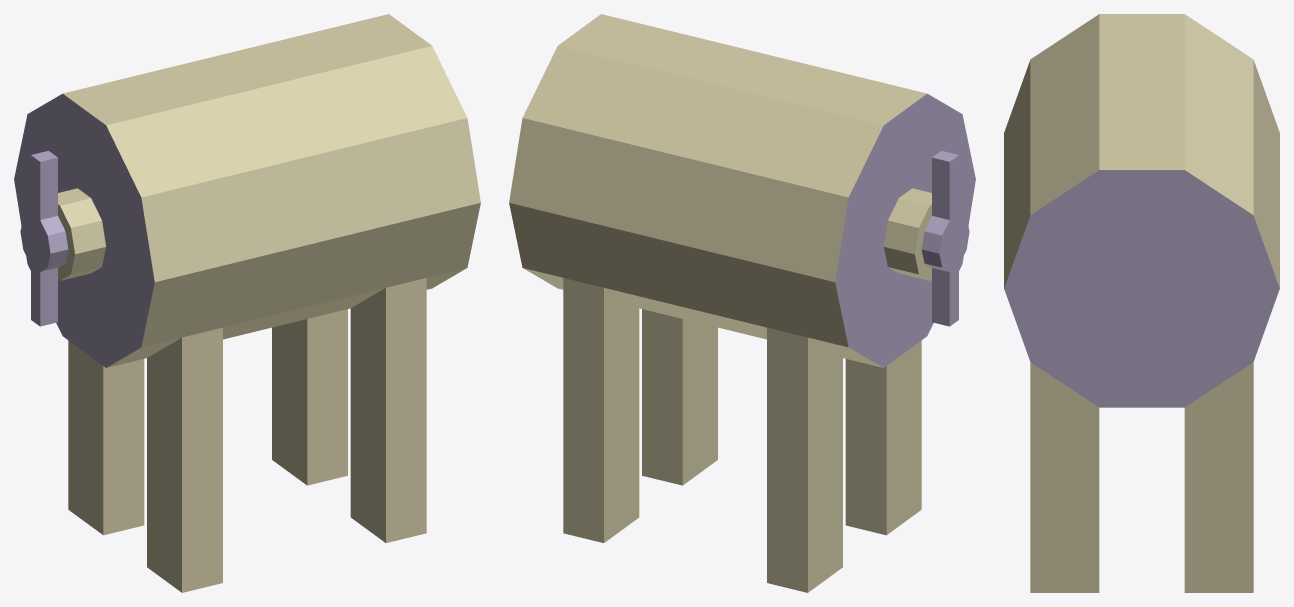
The model's file is composter.glb.
3 renders of one model, left to right at view 1: azimuth 30°, elevation 25°; view 2: azimuth 150°, elevation 25°; view 3: azimuth 270°, elevation 25°, orthographic. The views are drawn at different scales.
Parts seen in each view (by area): view 1: Cylinder.072; view 2: Cylinder.072; view 3: Cylinder.072.
Boxes of the visible parts, box(x1,y1,x2,y2) form: Cylinder.072: box(14, 14, 480, 592); Cylinder.072: box(509, 14, 975, 592); Cylinder.072: box(1004, 14, 1279, 592).
Bounding box in the file's own units: 0.5598 × 0.6443 × 0.3639.
